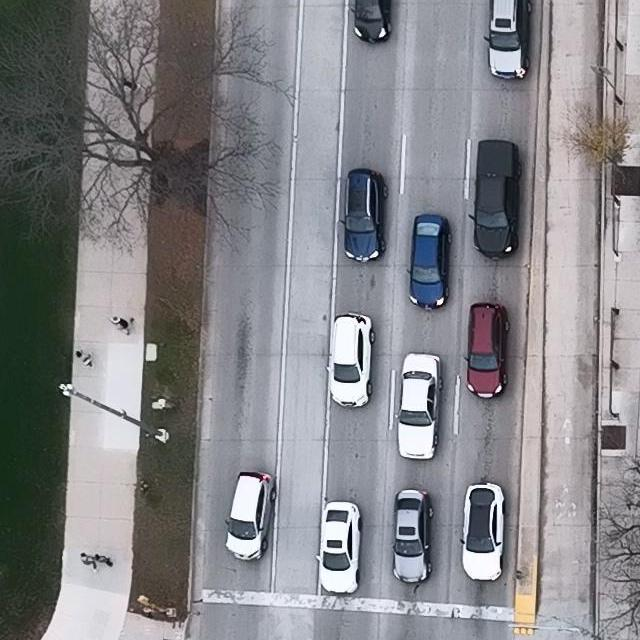car: (468, 140, 521, 260), (395, 353, 443, 460), (325, 311, 375, 408), (225, 471, 277, 561), (463, 302, 510, 401), (407, 213, 453, 311), (341, 168, 388, 263), (460, 482, 505, 581), (314, 501, 362, 593), (482, 0, 533, 80), (391, 489, 434, 583), (350, 0, 391, 42)
